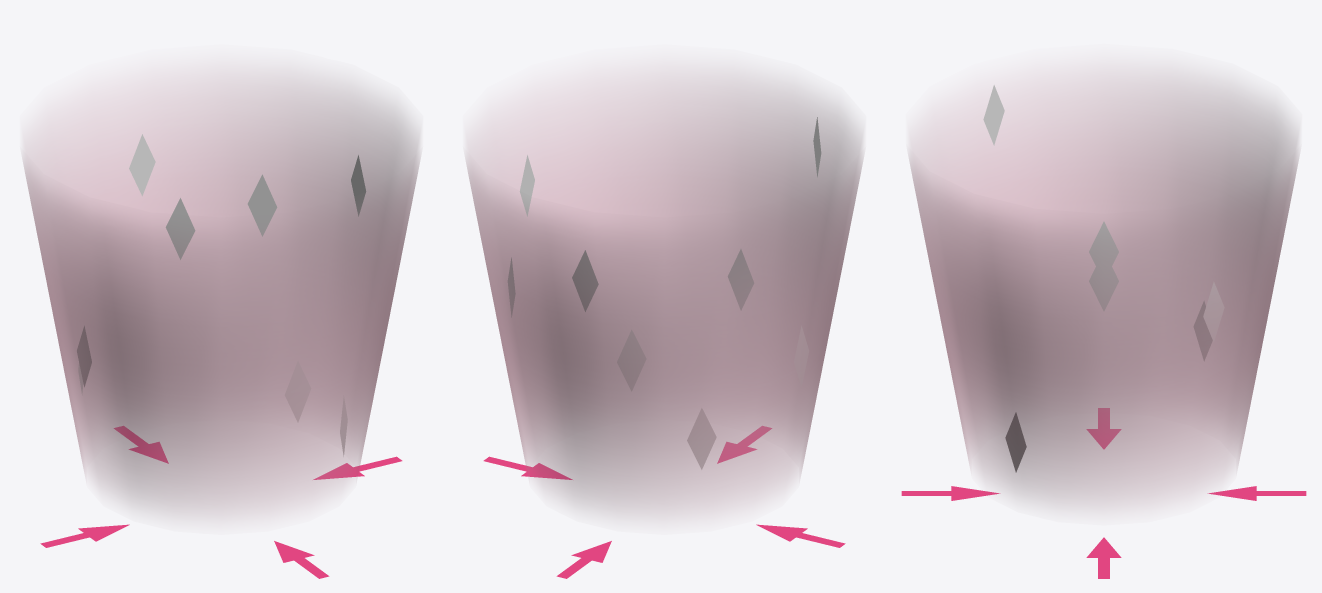
3 renders of one model, left to right at view 1: azimuth 30°, elevation 25°; view 2: azimuth 150°, elevation 25°; view 3: azimuth 270°, elevation 25°, orthographic.
Parts seen in each view (by area): view 1: Box012, 星点003, Plane004; view 2: Box012, 星点003, Plane004; view 3: Box012, 星点003, Plane004.
Boxes of the visible parts, <box> form: Box012: <box>22,63,420,517</box>; 星点003: <box>77,134,366,456</box>; Plane004: <box>40,426,402,578</box>; Box012: <box>465,63,863,517</box>; 星点003: <box>508,117,821,469</box>; Plane004: <box>483,426,845,578</box>; Box012: <box>908,62,1299,508</box>; 星点003: <box>983,85,1224,472</box>; Plane004: <box>901,408,1306,578</box>.
Size of the model in its own units: 1.24 by 1.32 by 1.22.
Materials: 3 (1 with a texture image).
